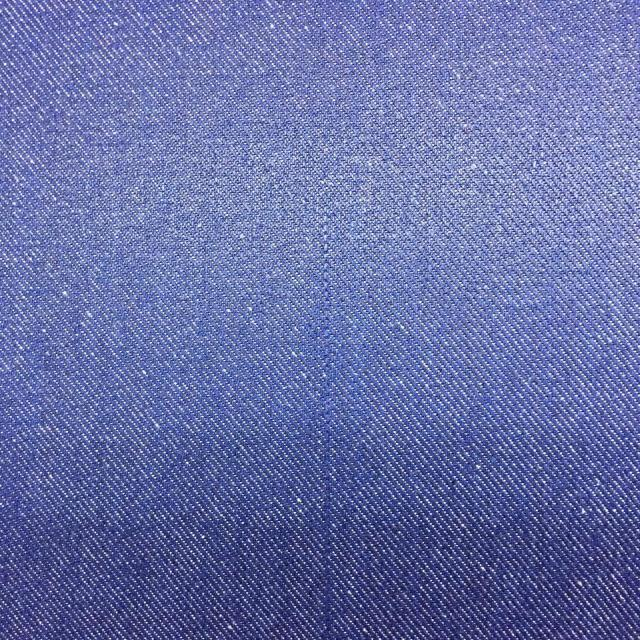Line: (321, 195, 333, 640)
